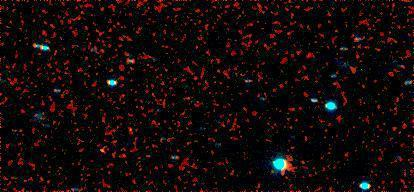star: (87, 135, 117, 165)
